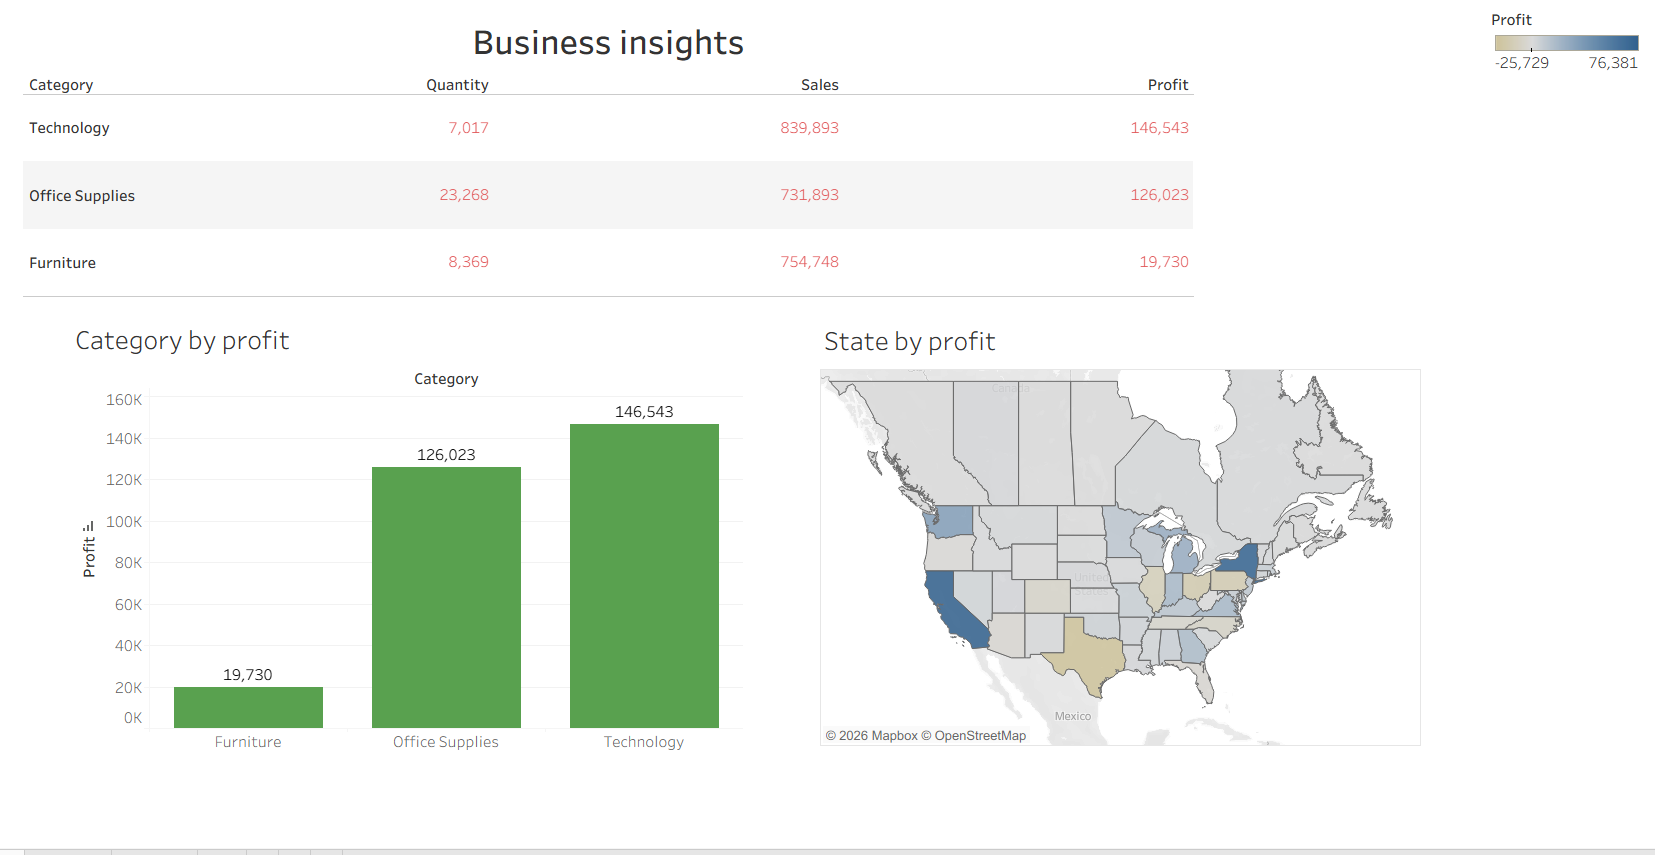

The dashboard page shown, as its layout file describes it:
{"tool":"tableau","page":{"name":"Dashboard 1","canvas":[1000,1000],"units":"permille","ordinal":0},"visuals":[{"type":"legend","title":"st. by pro.","param":"[federated.1ef8xgt09nco9w10zrdfl0tfcrn1].[sum:Profit:qk]","box":[898.6,9.4,96.6,981.2]},{"type":"worksheet","title":"Data","mark":"Automatic","rows":["Category"],"box":[15.1,20,706.7,332.6]},{"type":"worksheet","title":"cat by pro","mark":"Automatic","rows":["Profit"],"cols":["Category"],"box":[44.1,377.2,405.6,528.8]},{"type":"worksheet","title":"st. by pro.","mark":"Automatic","box":[496.1,378.4,362.7,501.8]}]}

Visuals, with their boxes on the dashboard's canvas, which has no fixed pixel size, in thousandths of its width and height (x1, y1, x2, y2). These are canvas units, not pixel positions in the 1655x855 screenshot, which may show the page scaled, cropped or inside an application window:
"st. by pro." legend: box(899, 9, 995, 991)
"Data" worksheet: box(15, 20, 722, 353)
"cat by pro" worksheet: box(44, 377, 450, 906)
"st. by pro." worksheet: box(496, 378, 859, 880)
